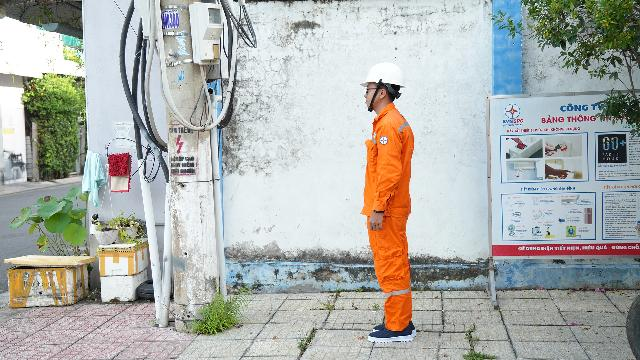helmet: (347, 52, 412, 92)
shoes: (360, 322, 415, 344), (367, 322, 421, 335)
